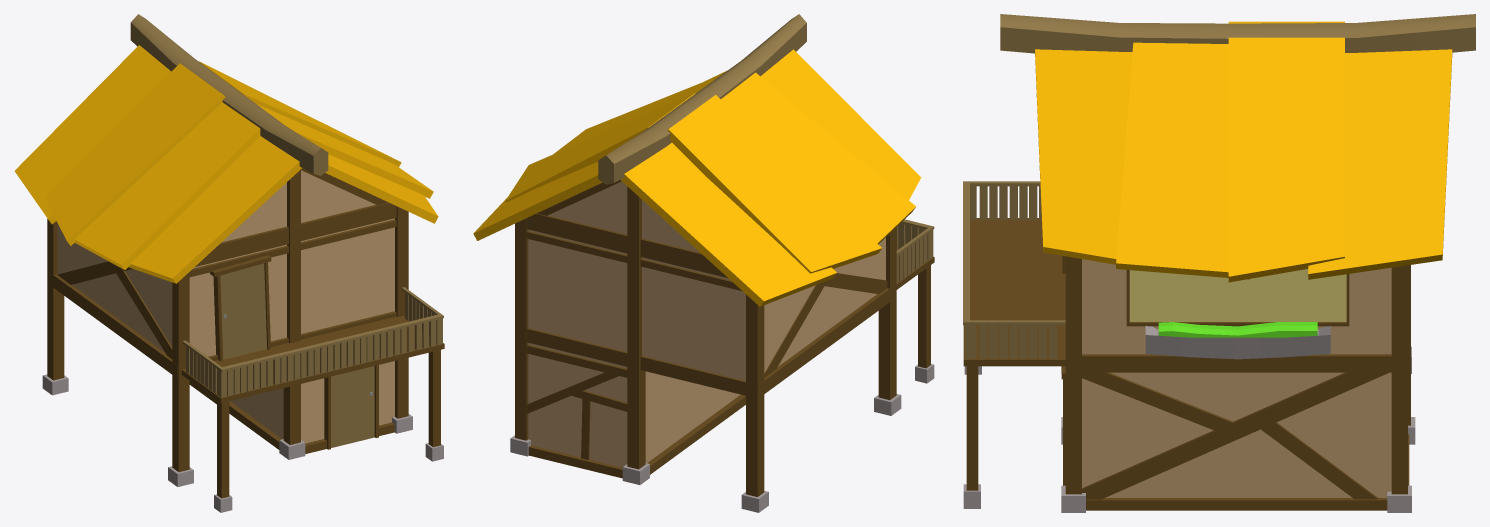
Rendered from Modular_Houses_Balcony.fbx.
3 renders of one model, left to right at view 1: azimuth 30°, elevation 25°; view 2: azimuth 150°, elevation 25°; view 3: azimuth 270°, elevation 25°, orthographic. The views are drawn at different scales.
Parts seen in each view (by area): view 1: Balcony; view 2: Balcony; view 3: Balcony.
Part boxes in pixels (x1,y1,x2,y2): Balcony: [14, 14, 444, 512]; Balcony: [473, 14, 934, 512]; Balcony: [963, 14, 1475, 512].
Size of the model in its own units: 9.31 by 8.7 by 9.49.
Materials: 1 (1 with a texture image).
